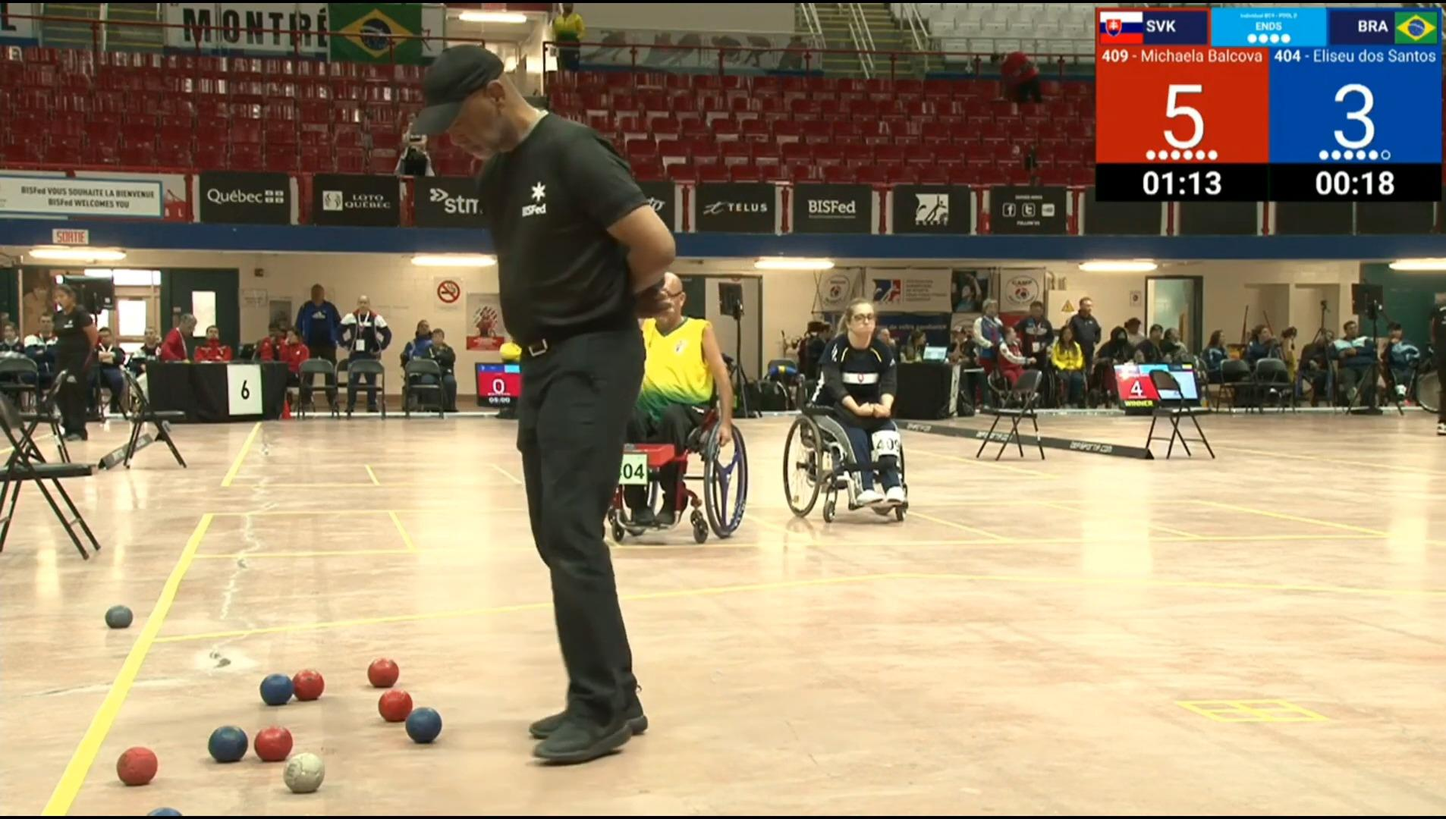blue_ball: (211, 724, 248, 762), (407, 709, 442, 743), (261, 675, 292, 705), (105, 607, 133, 627), (146, 810, 183, 819)
red_ball: (117, 747, 157, 786), (256, 727, 291, 761), (379, 691, 411, 721), (368, 659, 399, 687), (295, 671, 323, 699)
white_ball: (284, 755, 323, 792)
